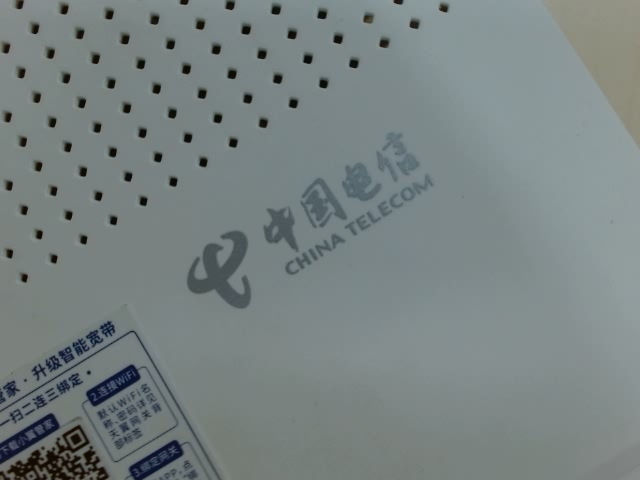AB_ChinaTelecom: (144, 112, 452, 317)
